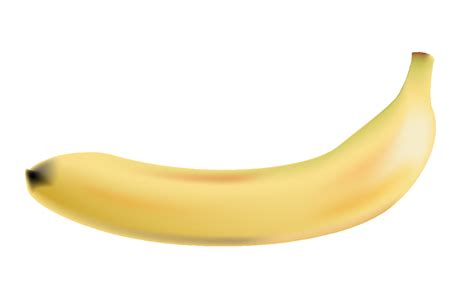banana: (23, 83, 441, 254)
